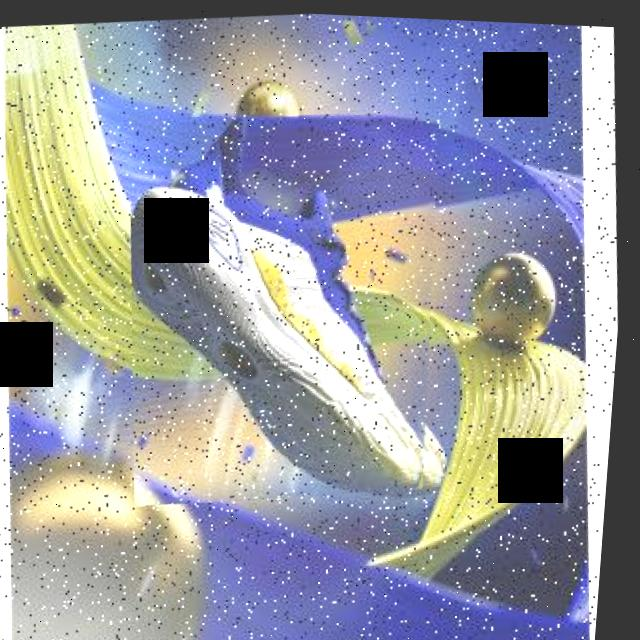shoe: (108, 94, 474, 516)
